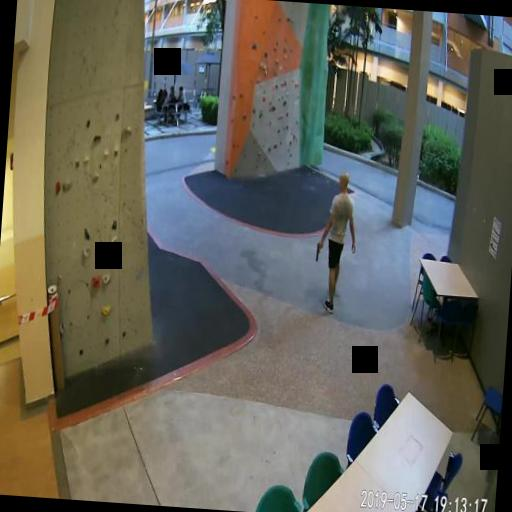Handgun: (315, 240, 322, 260)
